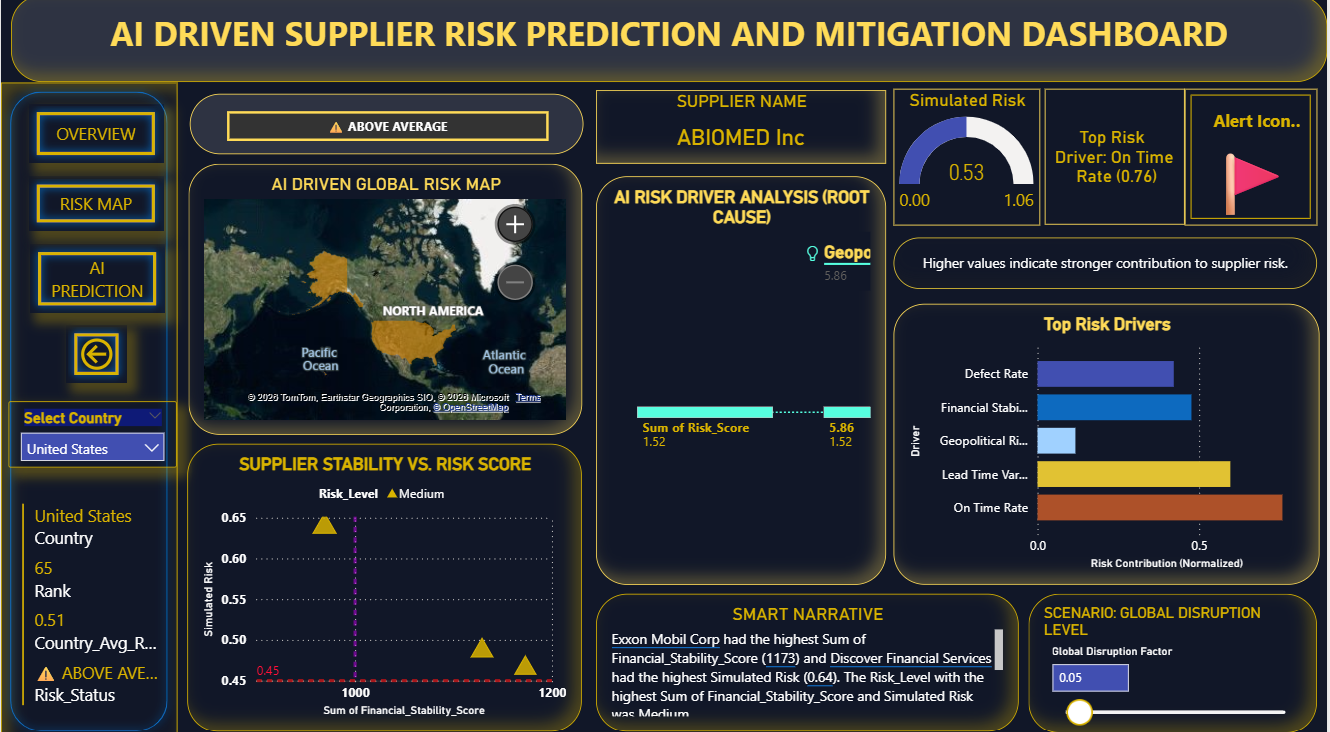

This screenshot's page, from the dashboard's own definition file:
{"tool":"powerbi","page":{"name":"Page 1","canvas":[1280,720],"ordinal":0},"visuals":[{"type":"textbox","box":[9.6,0,1270.7,83.7],"z":0},{"type":"gauge","fields":{"Y":["final_supplier_risk_data.Simulated Risk"]},"box":[861.9,90.5,141.7,132.1],"z":1000},{"type":"cardVisual","fields":{"Data":["final_supplier_risk_data.Alert Icon"]},"box":[1142.3,91,128.2,132.1],"z":2000},{"type":"filledMap","title":"AI DRIVEN GLOBAL RISK MAP","fields":{"Category":["country_risk_analysis.Country"]},"box":[181,162.9,380,261.8],"z":3000},{"type":"slicer","fields":{"Values":["country_risk_analysis.Risk_Status"]},"box":[181.7,95,380,58.3],"z":4000},{"type":"decompositionTreeVisual","title":"AI RISK DRIVER ANALYSIS (ROOT CAUSE)","fields":{"Analyze":["Sum(final_supplier_risk_data.Risk_Score)"],"ExplainBy":["final_supplier_risk_data.Geopolitical_Risk_Index","final_supplier_risk_data.OnTime_Rate","final_supplier_risk_data.Financial_Stability_Score","final_supplier_risk_data.LeadTime_Variability","final_supplier_risk_data.Defect_Rate"]},"box":[574.3,174.9,279.9,394.5],"z":5000},{"type":"scatterChart","title":"SUPPLIER STABILITY VS. RISK SCORE","fields":{"Category":["final_supplier_risk_data.Supplier_ID","final_supplier_risk_data.Supplier_Name"],"X":["Sum(final_supplier_risk_data.Financial_Stability_Score)"],"Series":["final_supplier_risk_data.Risk_Level"],"Size":["Sum(final_supplier_risk_data.Defect_Rate)"],"Y":["final_supplier_risk_data.Simulated Risk"]},"box":[179.5,433.3,380.8,278.2],"z":6000},{"type":"slicer","title":"SCENARIO: GLOBAL DISRUPTION LEVEL","fields":{"Values":["Global Disruption Factor.Global Disruption Factor"]},"box":[991.2,577.5,278.8,135],"z":7000},{"type":"shape","box":[0,84.3,170,635.7],"z":8000},{"type":"actionButton","box":[26.2,105,130,57.5],"z":9000},{"type":"actionButton","box":[26.2,175,130,52.5],"z":10000},{"type":"actionButton","box":[27.5,240,130,67.5],"z":11000},{"type":"textbox","title":"SMART NARRATIVE","box":[574.4,578.2,407.7,133.3],"z":12000},{"type":"actionButton","box":[62.5,318.8,58.8,56.2],"z":13000},{"type":"multiRowCard","fields":{"Values":["country_risk_analysis.Country","country_risk_analysis.Rank","country_risk_analysis.Country_Avg_Risk","country_risk_analysis.Risk_Status"]},"box":[16.2,486.2,141.2,207.5],"z":14000},{"type":"slicer","fields":{"Values":["country_risk_analysis.Country"]},"box":[7.5,392.5,162.5,63.8],"z":15000},{"type":"clusteredBarChart","title":"Top Risk Drivers","fields":{"Category":["Risk_Drivers.Driver"],"Y":["Global Disruption Factor.Driver Value Normalized Fixed"]},"box":[861.4,298,411.4,271.4],"z":16000},{"type":"card","fields":{"Values":["Global Disruption Factor.Top Driver Full"]},"box":[1007.4,90.5,135.1,131.5],"z":17000},{"type":"textbox","box":[861.4,234,409,49.5],"z":18000},{"type":"card","title":"SUPPLIER NAME","fields":{"Values":["Min(final_supplier_risk_data.Supplier_Name)"]},"box":[573.8,91.2,280,71.2],"z":20000}]}

Visuals, with their boxes in screenshot pixels (x1, y1, x2, y2), scaled from the page's 1280x720 canvas onto the 1330x732 screenshot:
textbox: 10, 0, 1329, 85
gauge - final_supplier_risk_data.Simulated Risk: 896, 92, 1043, 226
cardVisual - final_supplier_risk_data.Alert Icon: 1187, 93, 1320, 227
"AI DRIVEN GLOBAL RISK MAP" filledMap: 188, 166, 583, 432
slicer - country_risk_analysis.Risk_Status: 189, 97, 584, 156
"AI RISK DRIVER ANALYSIS (ROOT CAUSE)" decompositionTreeVisual: 597, 178, 888, 579
"SUPPLIER STABILITY VS. RISK SCORE" scatterChart: 187, 441, 582, 723
"SCENARIO: GLOBAL DISRUPTION LEVEL" slicer: 1030, 587, 1320, 724
shape: 0, 86, 177, 731
actionButton: 27, 107, 162, 165
actionButton: 27, 178, 162, 231
actionButton: 29, 244, 164, 313
"SMART NARRATIVE" textbox: 597, 588, 1020, 723
actionButton: 65, 324, 126, 381
multiRowCard - country_risk_analysis.Country x country_risk_analysis.Rank: 17, 494, 164, 705
slicer - country_risk_analysis.Country: 8, 399, 177, 464
"Top Risk Drivers" clusteredBarChart: 895, 303, 1323, 579
card - Global Disruption Factor.Top Driver Full: 1047, 92, 1187, 226
textbox: 895, 238, 1320, 288
"SUPPLIER NAME" card: 596, 93, 887, 165
